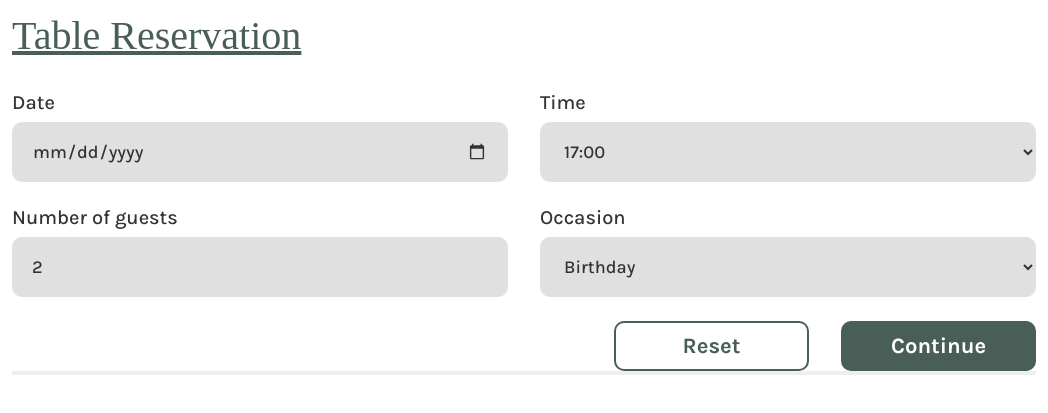
it: BookingForm - React validation › shows error message for past date
Type "2025-05-01" into the date field labelled "Date" at (260, 152), box x1=12 y1=122 x2=508 y2=182
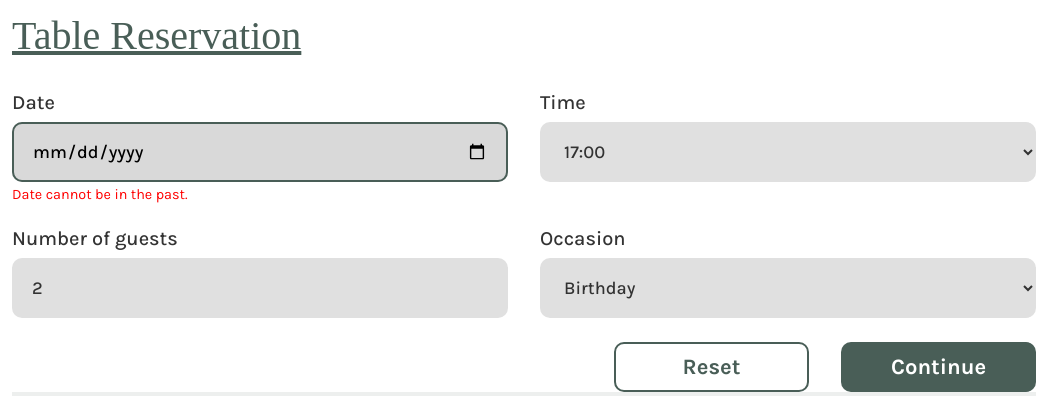
Check: the text "Date cannot be in the past." is shown, box x1=12 y1=186 x2=188 y2=203
